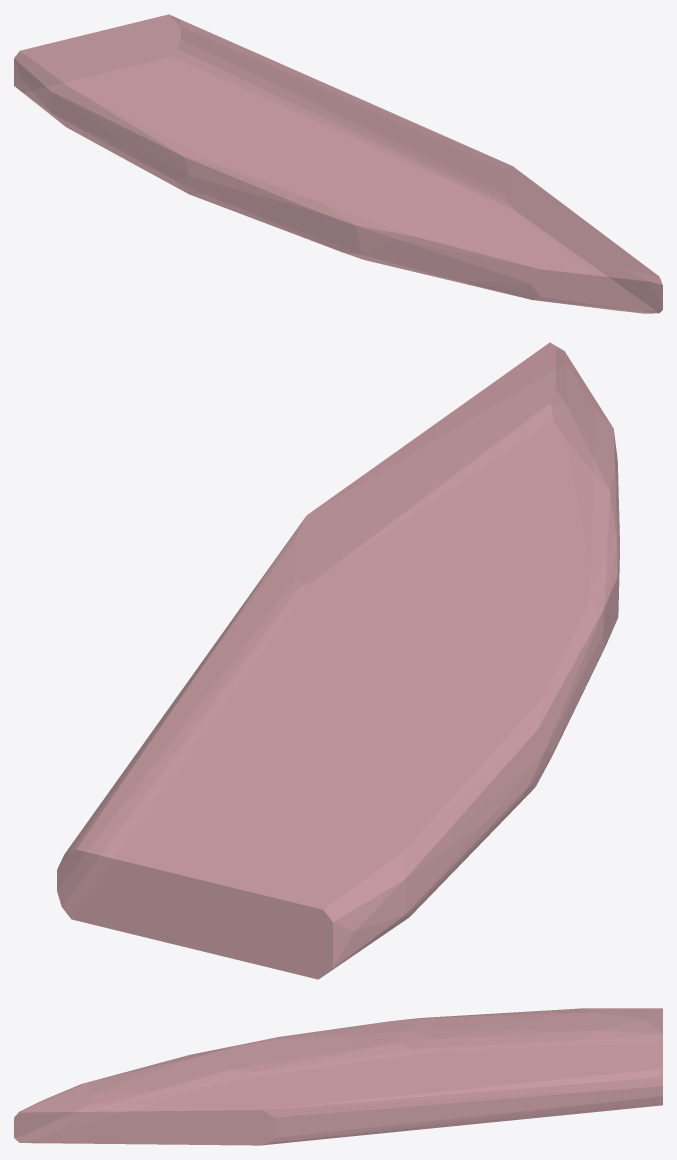
3 views of the same model, one above another, from view 1: azimuth 30°, elevation 25°; view 2: azimuth 150°, elevation 25°; view 3: azimuth 270°, elevation 25° (orthographic). The views are drawn at different scales.
Visible parts, largest first — view 1: Shape_IndexedFaceSet.004_Shape_IndexedFaceSet.17156; view 2: Shape_IndexedFaceSet.004_Shape_IndexedFaceSet.17156; view 3: Shape_IndexedFaceSet.004_Shape_IndexedFaceSet.17156.
Part boxes in pixels (x1,y1,x2,y2): Shape_IndexedFaceSet.004_Shape_IndexedFaceSet.17156: [14, 14, 662, 313]; Shape_IndexedFaceSet.004_Shape_IndexedFaceSet.17156: [57, 342, 619, 979]; Shape_IndexedFaceSet.004_Shape_IndexedFaceSet.17156: [14, 1008, 662, 1145].
Bounding box in the file's own units: 0.1506 × 0.0237 × 0.3926.
